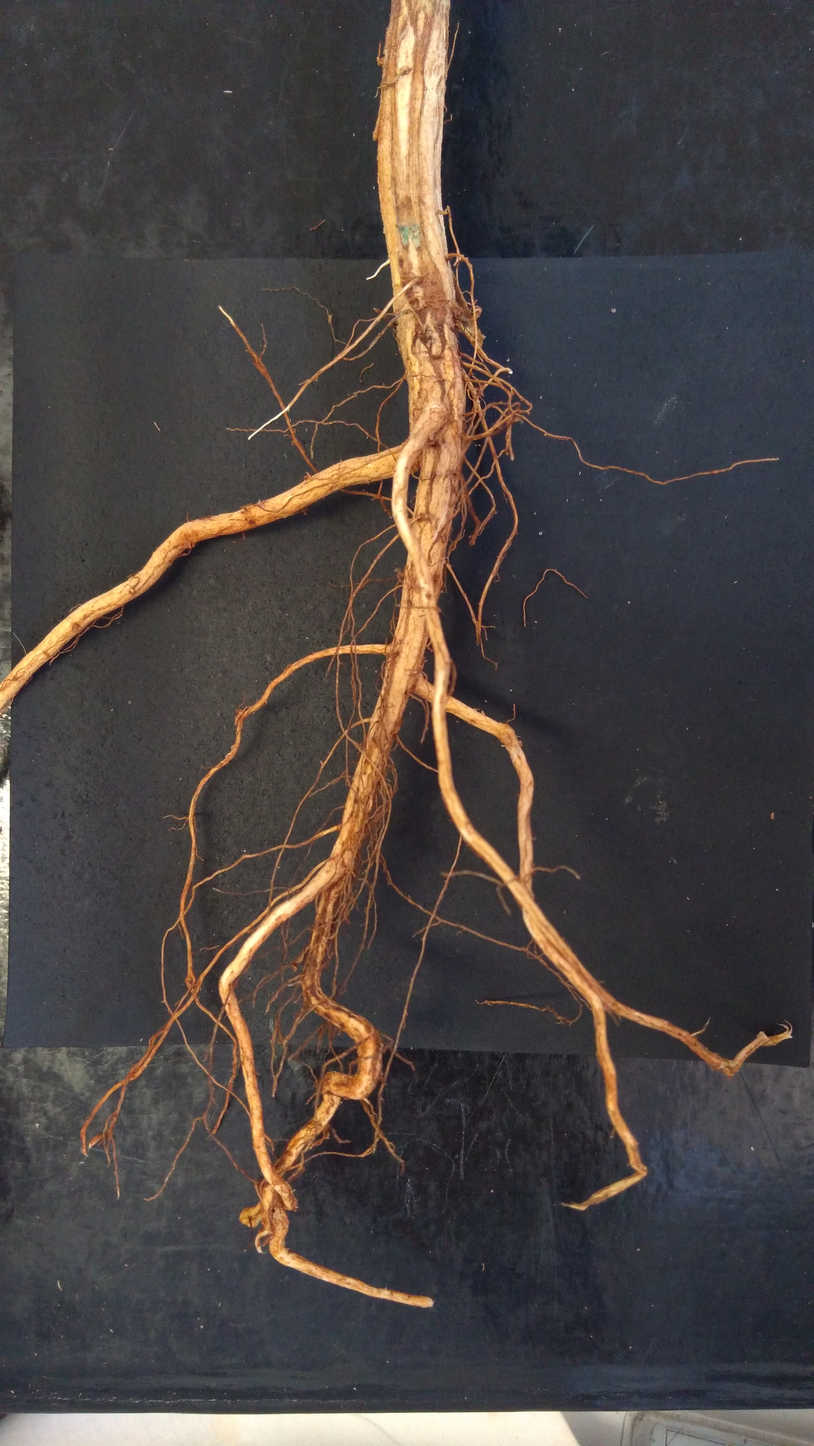nodule: (238, 1207, 262, 1228), (426, 427, 447, 446), (372, 115, 379, 142), (395, 64, 410, 75), (472, 307, 482, 318), (376, 56, 384, 67), (291, 962, 298, 972), (517, 740, 522, 748), (538, 531, 543, 536), (494, 509, 498, 514)
